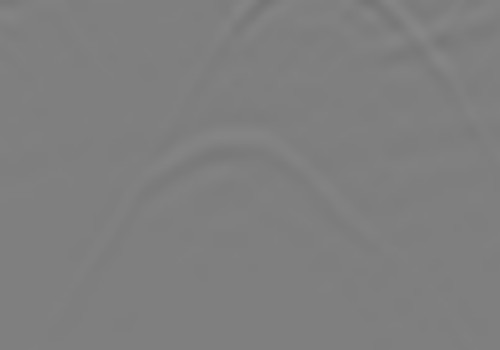hyperbola: (96, 115, 354, 289)
